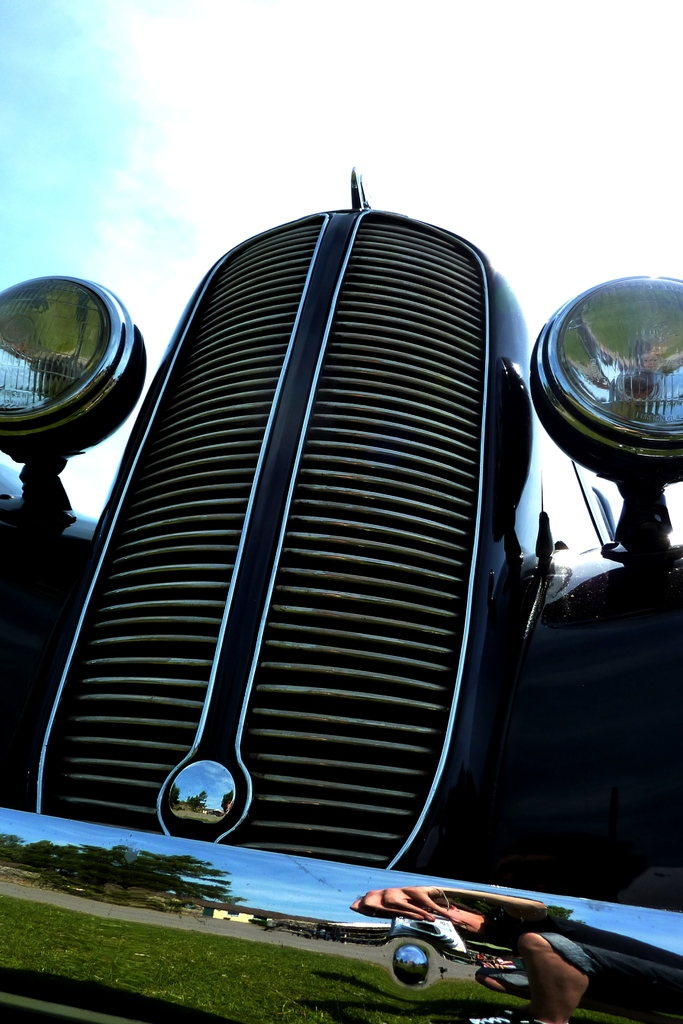cars: (0, 154, 602, 970)
